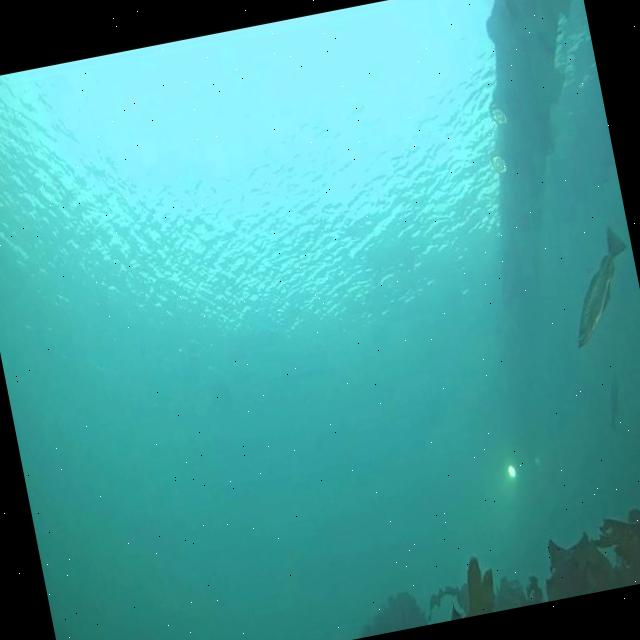fish: (555, 224, 640, 349), (598, 370, 630, 430)
